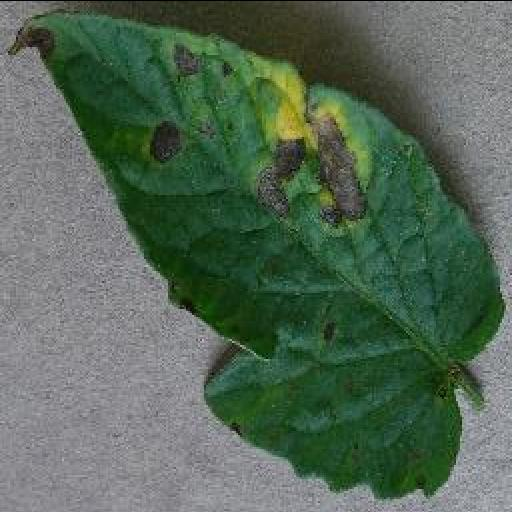disease_tomato: (6, 8, 510, 501)
